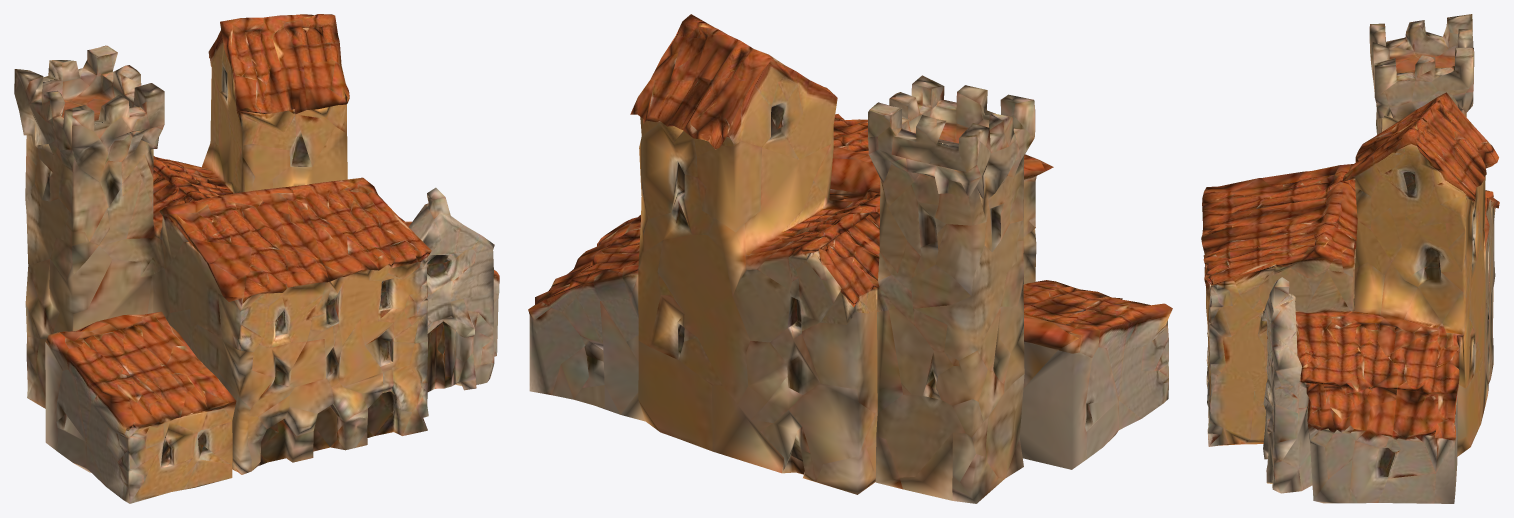
Rendered from cittadina_b.glb.
3 views of the same model, side by side, from view 1: azimuth 30°, elevation 25°; view 2: azimuth 150°, elevation 25°; view 3: azimuth 270°, elevation 25° (orthographic). The views are drawn at different scales.
Bounding box in the file's own units: 1.89 × 1.41 × 1.19.
1 material, 1 textured.
